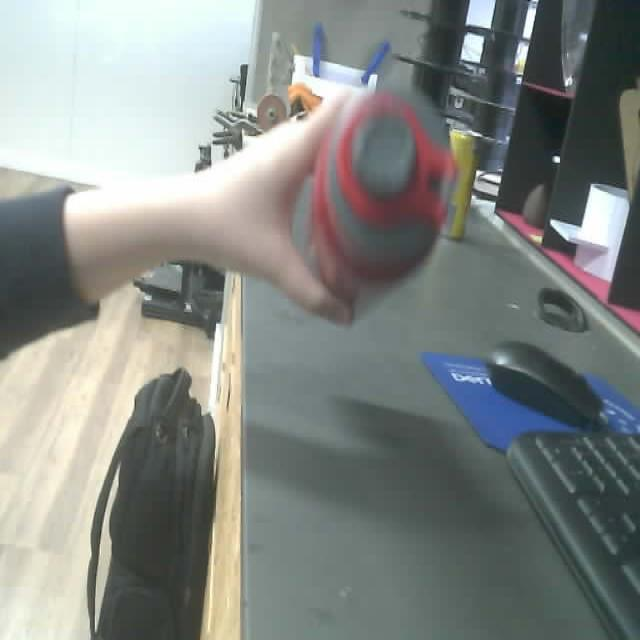water bottle: (292, 87, 459, 321)
